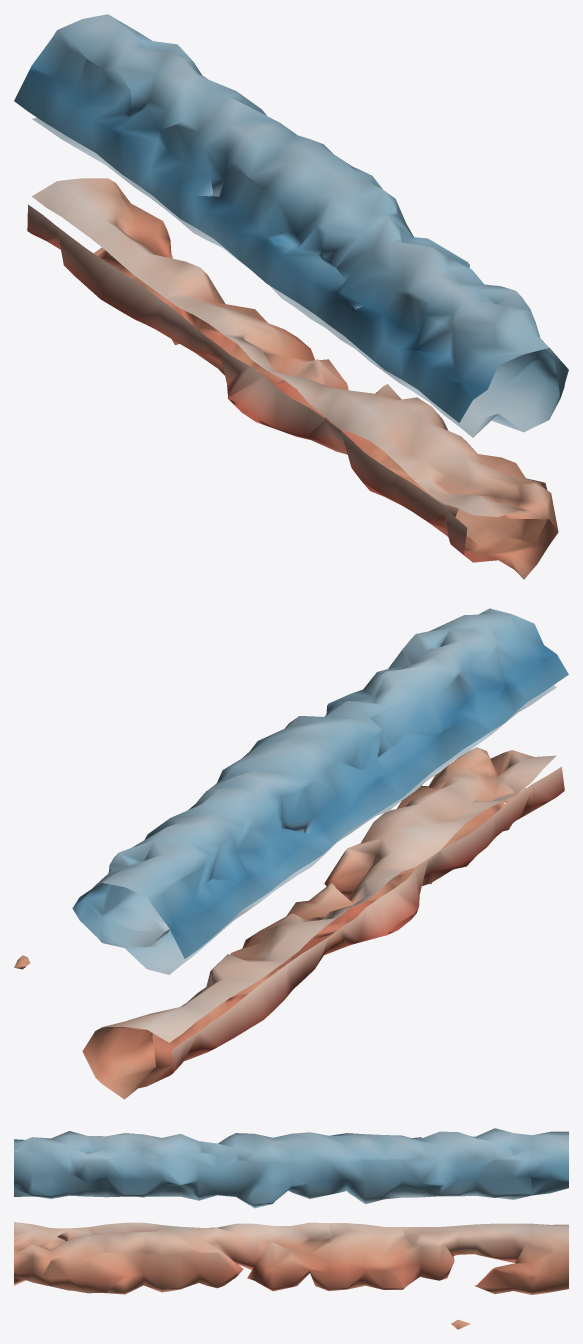
3 views of the same model, one above another, from view 1: azimuth 30°, elevation 25°; view 2: azimuth 150°, elevation 25°; view 3: azimuth 270°, elevation 25° (orthographic). The views are drawn at different scales.
Bounding box in the file's own units: 0.9361 × 0.7814 × 2.5.
